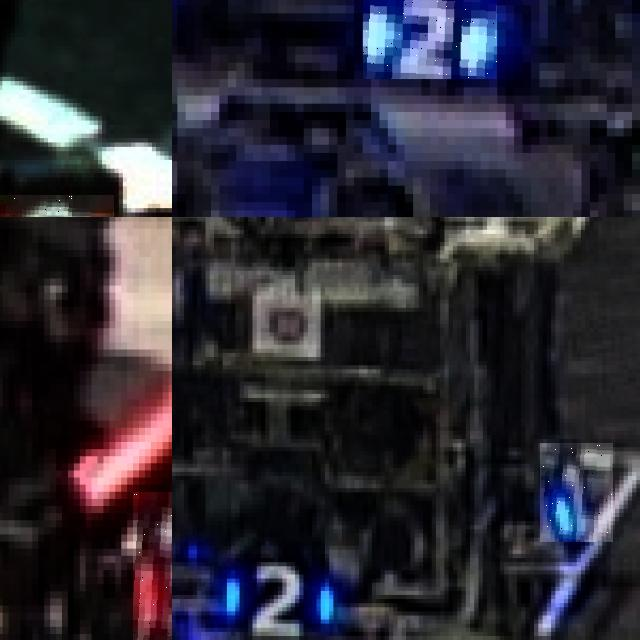B2: (218, 551, 341, 640), (362, 0, 497, 79), (540, 443, 613, 542)
R3: (133, 491, 172, 640)
Rs: (0, 195, 114, 217)
